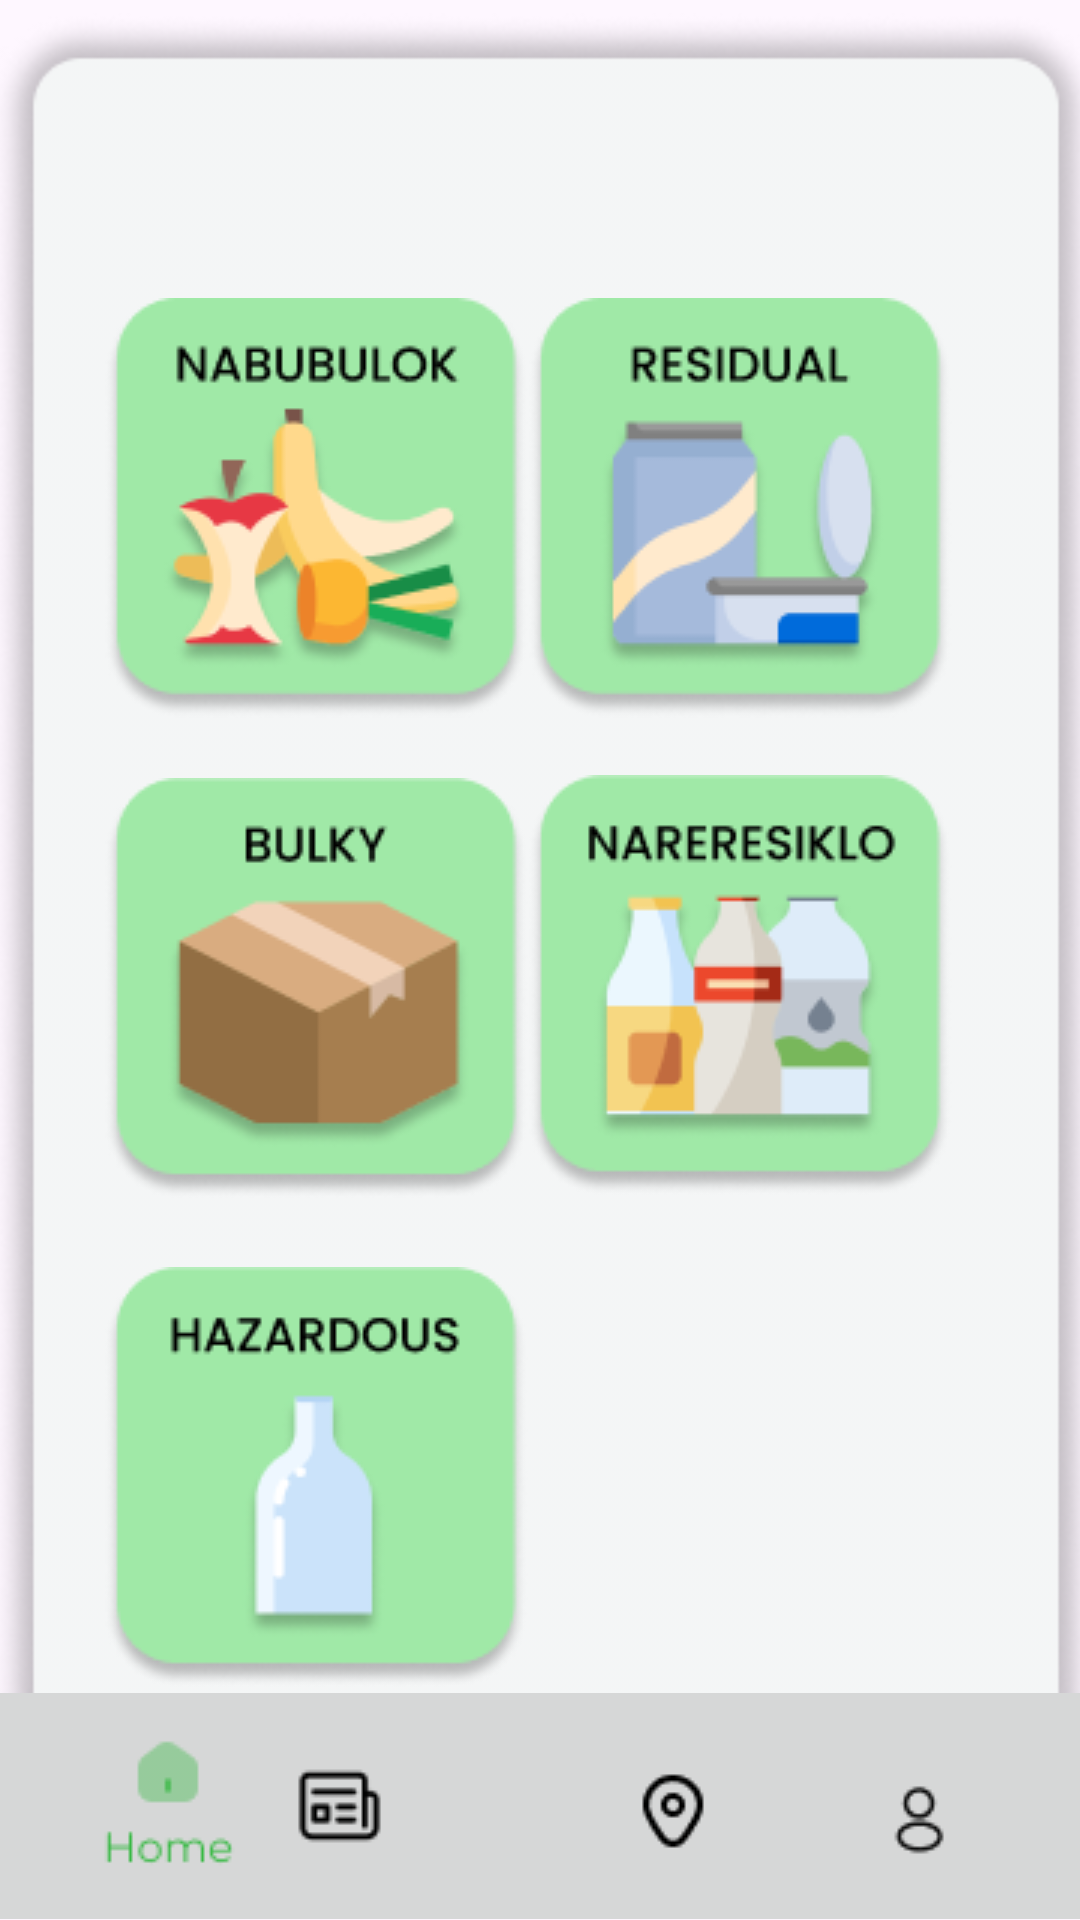

Icons on this 1080w x 1920h Android screen, each with the point to tap as [x,y]:
bulletin: [339,1806]
map: [673,1811]
profile: [919,1820]
